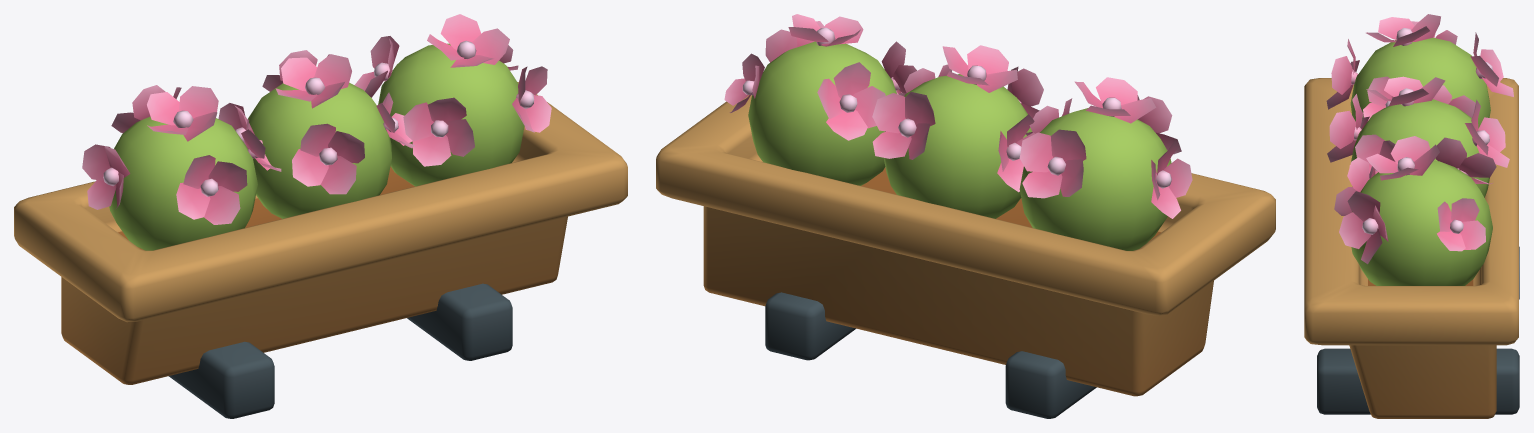
Rendered from mct_homepart_flowerpot01.fbx.
3 renders of one model, left to right at view 1: azimuth 30°, elevation 25°; view 2: azimuth 150°, elevation 25°; view 3: azimuth 270°, elevation 25°, orthographic. The views are drawn at different scales.
Visible parts, largest first — view 1: flower_pot_01; view 2: flower_pot_01; view 3: flower_pot_01.
Boxes of the visible parts, x1,y1,x2,y2 form: flower_pot_01: (14,14,627,418); flower_pot_01: (656,14,1275,418); flower_pot_01: (1304,14,1519,418).
Size of the model in its own units: 161 by 87.92 by 63.41.
